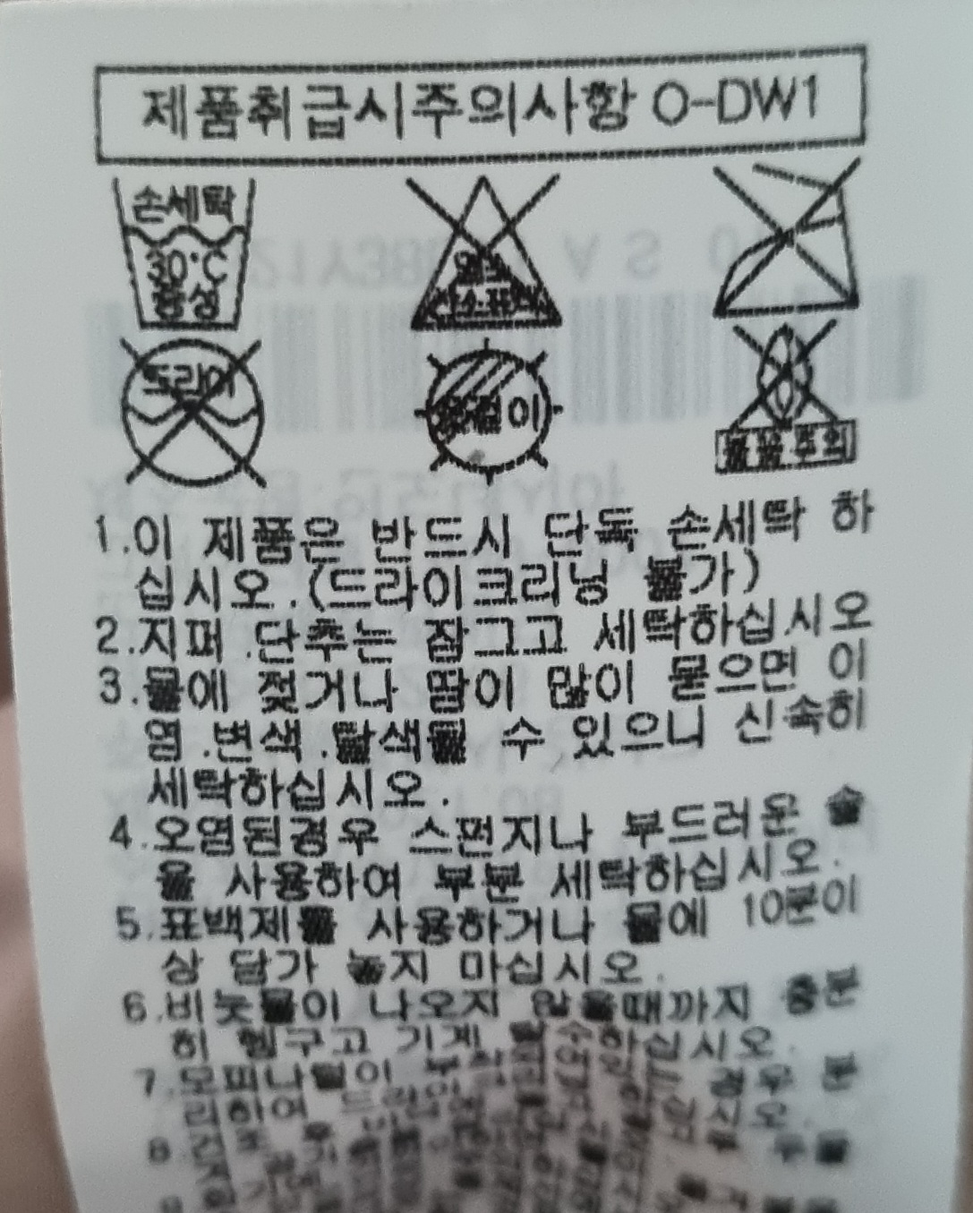KR_hand_wash_30_neutral: (105, 169, 270, 337)
KR_hang_dry_in_shade: (406, 336, 566, 493)
KR_no_bleach: (393, 172, 570, 340)
KR_no_dry_clean: (102, 333, 285, 501)
KR_no_iron: (702, 160, 870, 322)
